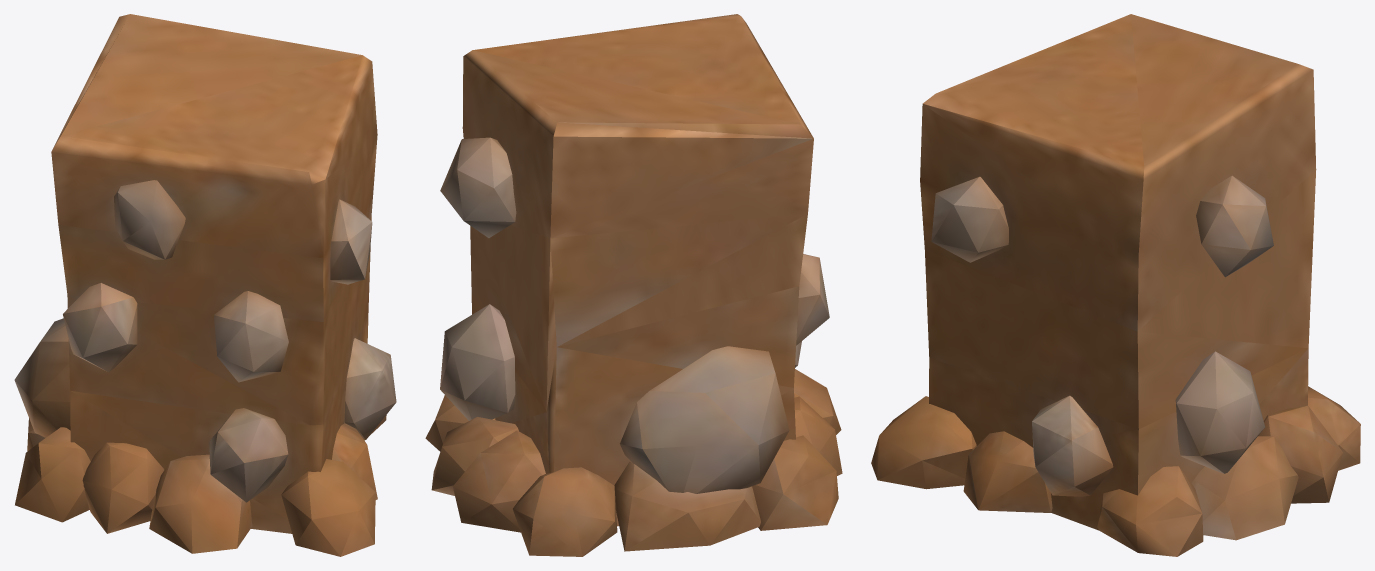
Rendered from bloque_tierra_1_500.glb.
3 views of the same model, side by side, from view 1: azimuth 30°, elevation 25°; view 2: azimuth 150°, elevation 25°; view 3: azimuth 270°, elevation 25° (orthographic). The views are drawn at different scales.
Visible parts, largest first — view 1: bloque_tierra_1_malla; view 2: bloque_tierra_1_malla; view 3: bloque_tierra_1_malla.
Boxes of the visible parts, x1,y1,x2,y2 form: bloque_tierra_1_malla: [14, 14, 396, 556]; bloque_tierra_1_malla: [425, 14, 842, 556]; bloque_tierra_1_malla: [871, 14, 1360, 556].
Bounding box in the file's own units: 0.2144 × 0.2176 × 0.2384.
Materials: 1 (1 with a texture image).
